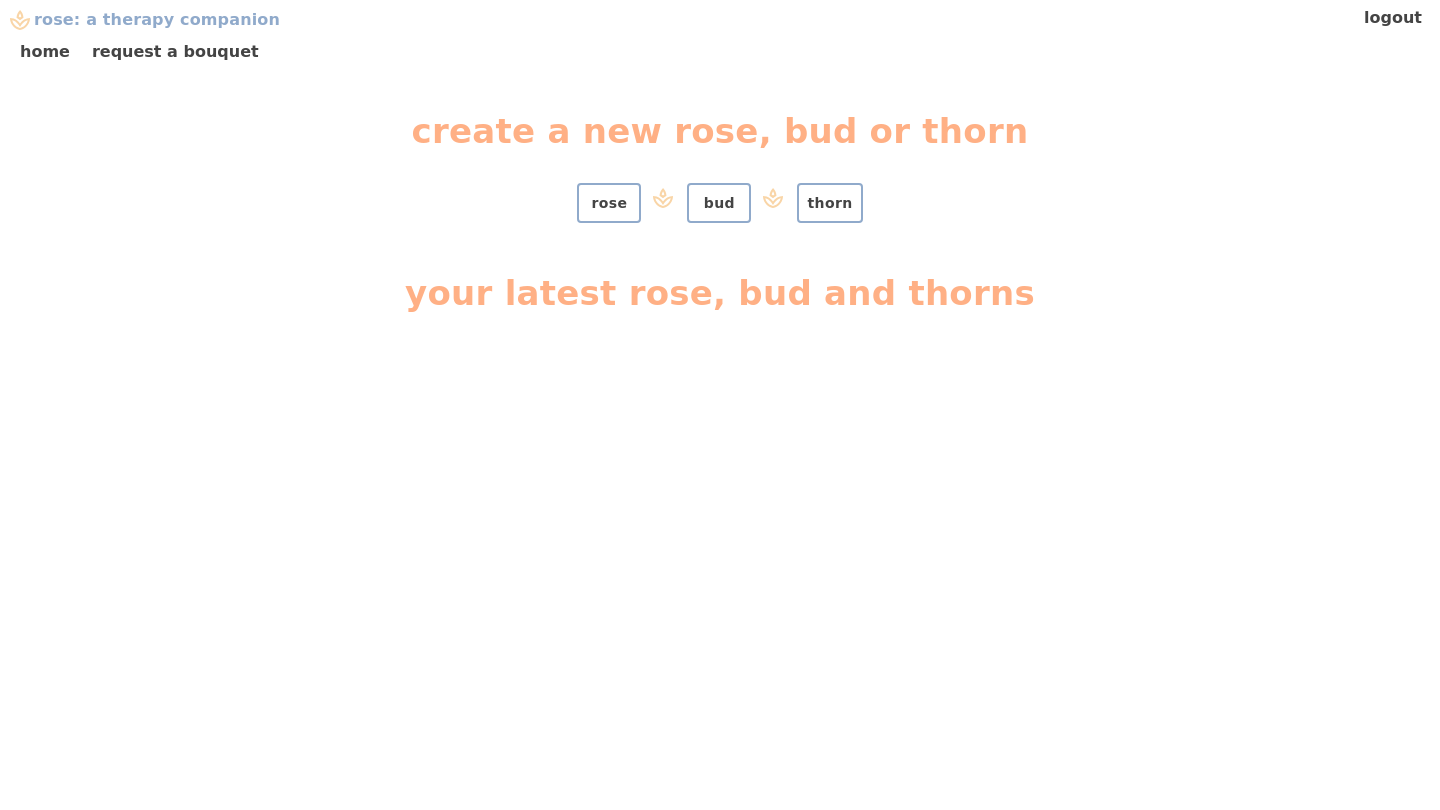
Scenario: clicking on login button takes user to login page
The width and height of the screenshot is (1440, 810).
Click the link "logout". click: click(1393, 18)
box: left=1364, top=8, right=1422, bottom=27
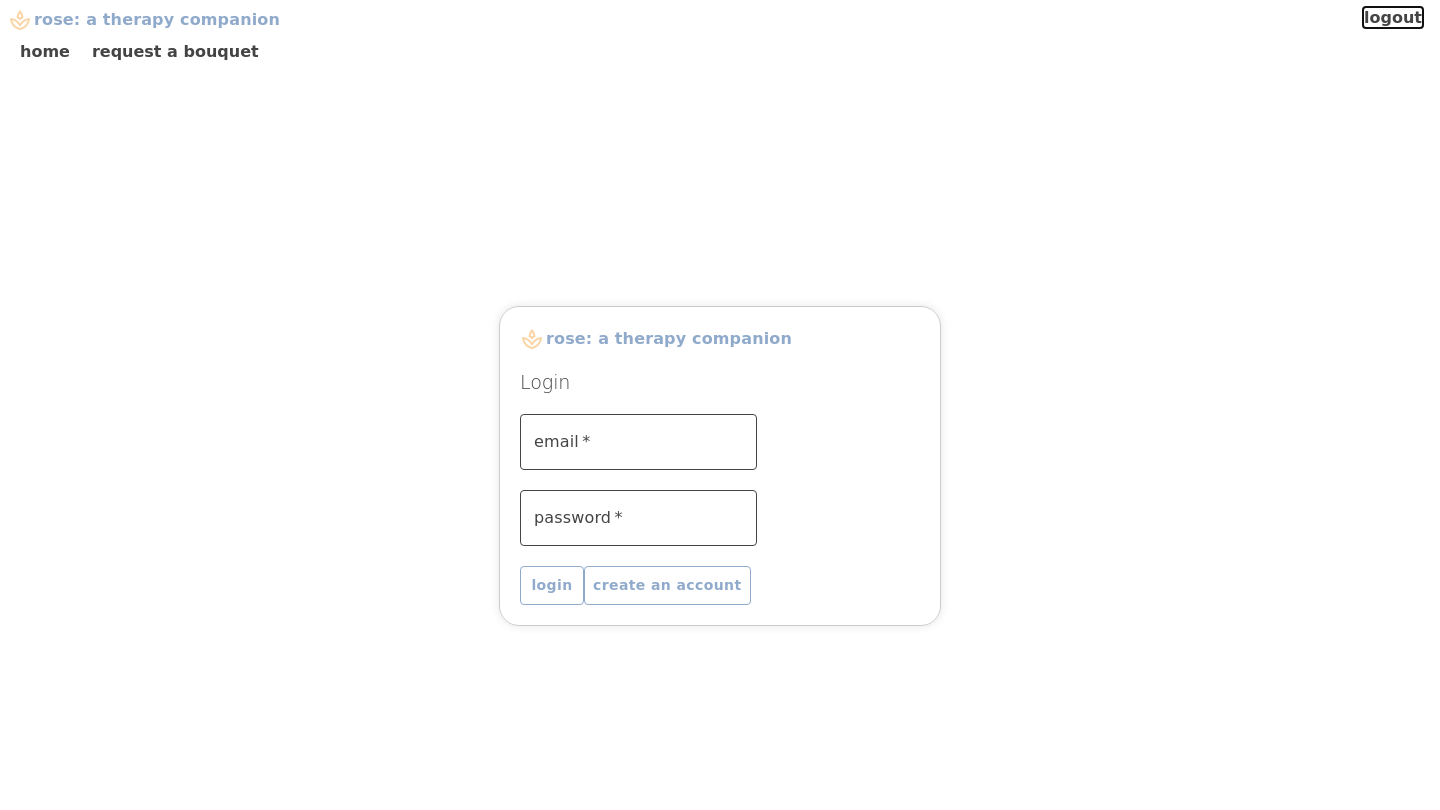
expect the button "login" is shown: met, box left=520, top=566, right=584, bottom=605
